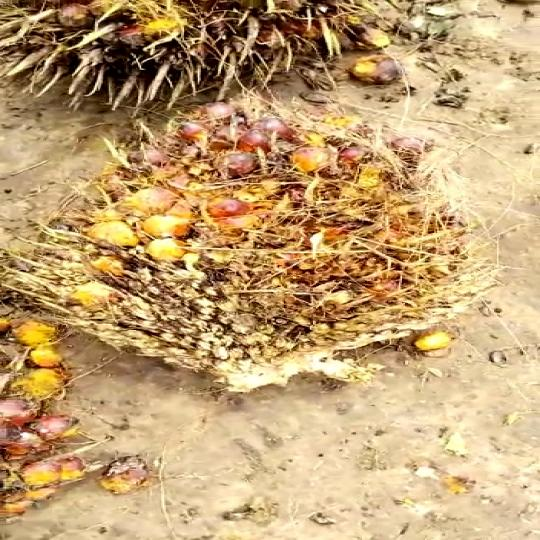masak: (19, 105, 501, 404)
